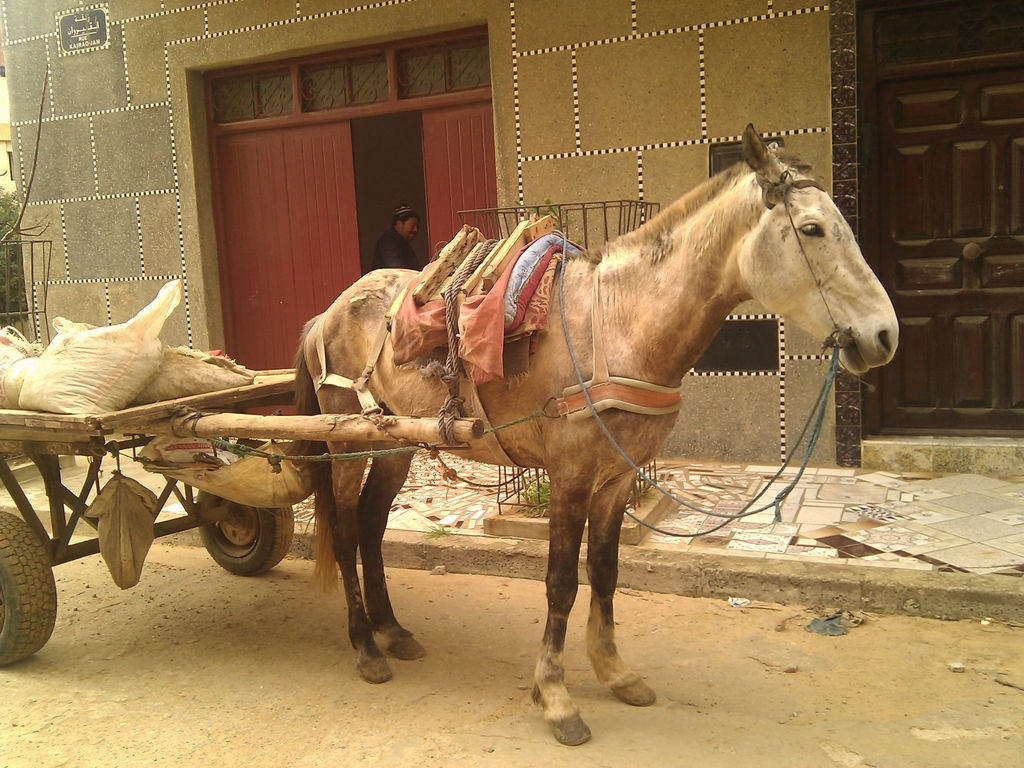horse: (282, 122, 898, 746)
